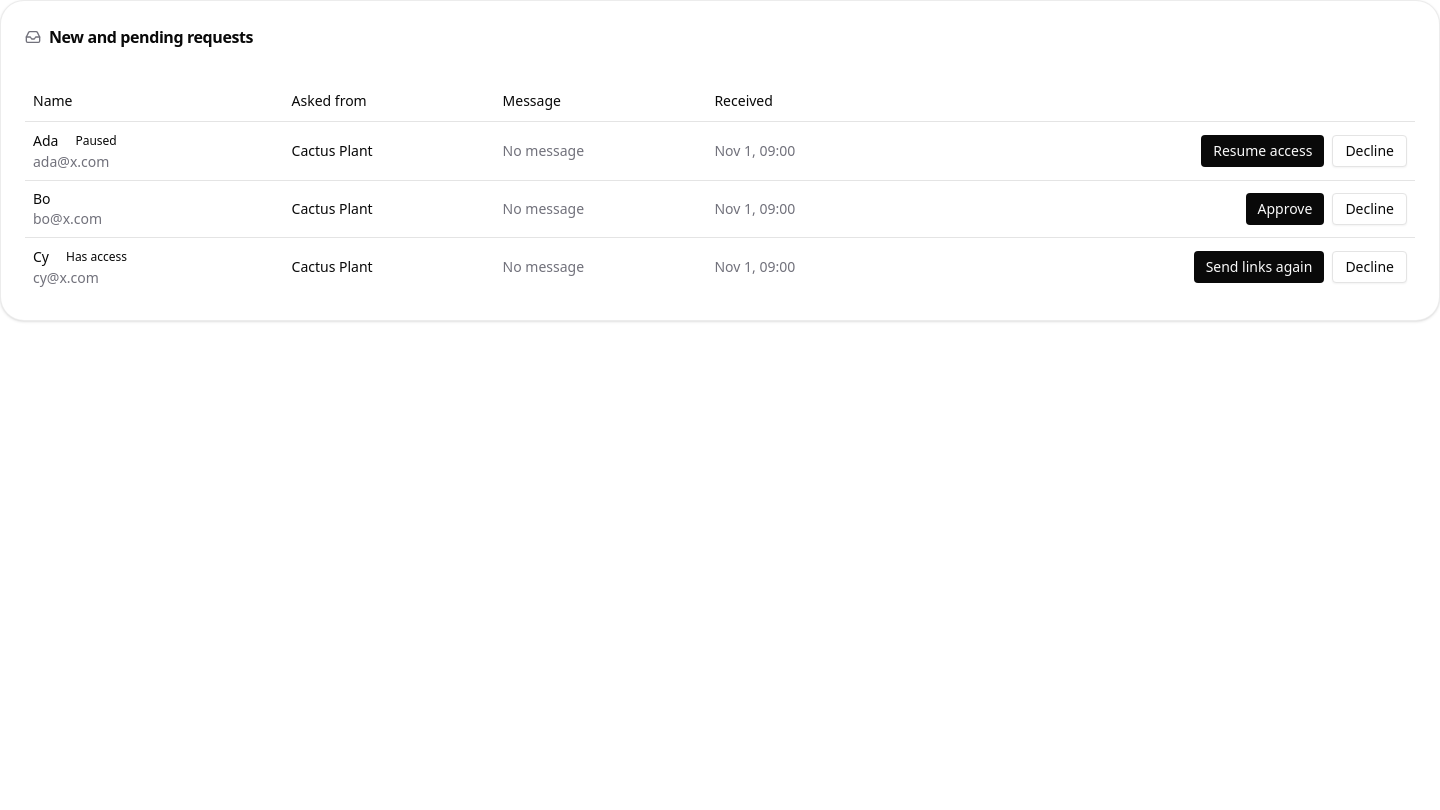
Test: RequestsTable › Approve opens the invite form prefilled
The image size is (1440, 810).
Click the button "Approve". click: (1285, 208)
box: x1=1246 y1=192 x2=1324 y2=224
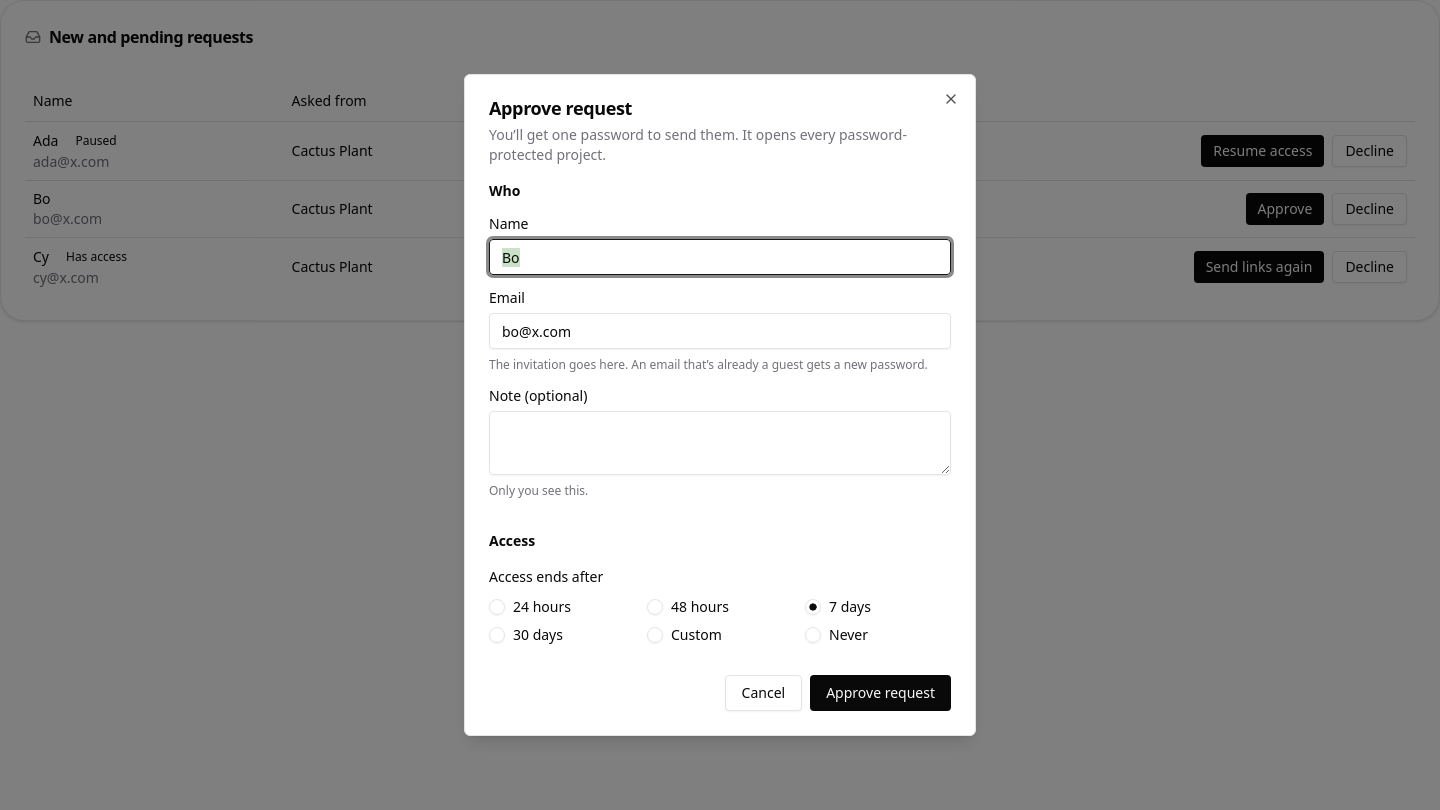
Check: the heading "Approve request" is shown, box x1=489 y1=96 x2=632 y2=120
Check: the field labelled "Name" holds "Bo", box x1=489 y1=239 x2=951 y2=275
